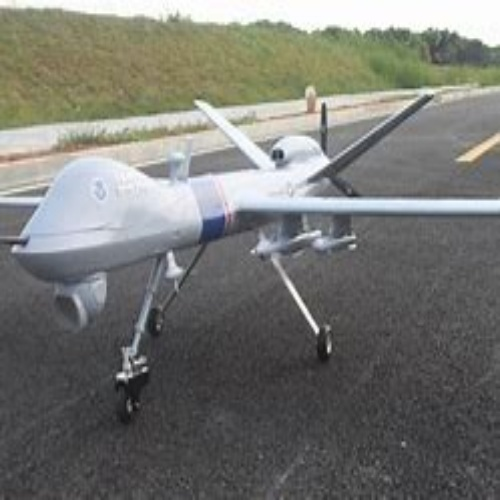uav: (3, 88, 500, 417)
